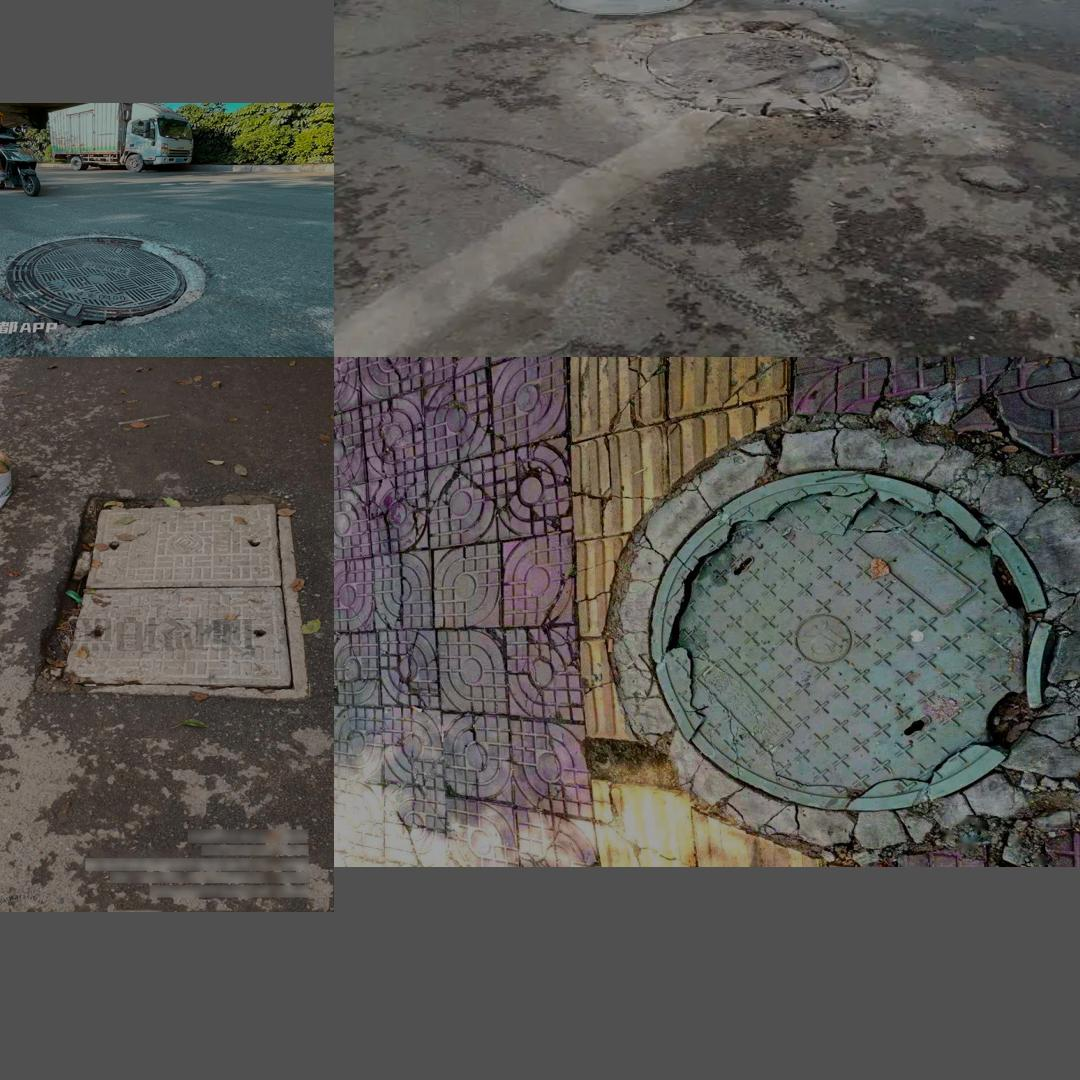circle: (594, 416, 1080, 843), (32, 495, 305, 698), (598, 11, 951, 164), (0, 222, 240, 337)
